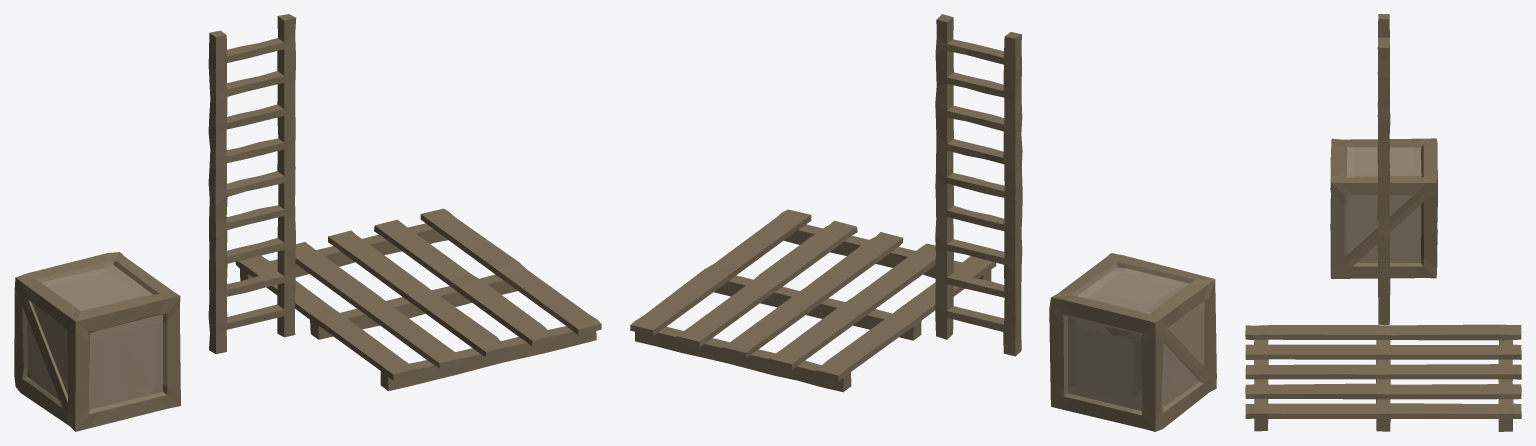
The model's file is EnvironmentObjects.fbx.
The picture shows the model from 3 angles, left to right: view 1: azimuth 30°, elevation 25°; view 2: azimuth 150°, elevation 25°; view 3: azimuth 270°, elevation 25°; orthographic projection. The views are drawn at different scales.
Visible parts, largest first — view 1: Pallet, Box, Ladder, Box_cell.007, Ladder_cell.004, Box_cell.004, Pallet_cell, Pallet_cell.005, Box_cell.006, Ladder_cell.001, Pallet_cell.004, Pallet_cell.002 (+10 smaller); view 2: Pallet, Box, Ladder, Ladder_cell.004, Pallet_cell, Box_cell.007, Box_cell.006, Box_cell.003, Box_cell.001, Pallet_cell.004, Ladder_cell.001, Pallet_cell.002 (+7 smaller); view 3: Pallet, Box, Pallet_cell.005, Pallet_cell, Pallet_cell.004, Ladder, Box_cell.004, Pallet_cell.009, Box_cell.001, Box_cell.007, Pallet_cell.003, Pallet_cell.002 (+10 smaller).
Part boxes in pixels (<box>): Pallet: <box>235,208,601,391</box>; Box: <box>14,257,180,431</box>; Ladder: <box>208,14,295,354</box>; Box_cell.007: <box>30,279,154,382</box>; Ladder_cell.004: <box>208,182,295,352</box>; Box_cell.004: <box>117,276,180,416</box>; Pallet_cell: <box>271,254,460,325</box>; Pallet_cell.005: <box>254,261,414,353</box>; Box_cell.006: <box>14,257,110,312</box>; Ladder_cell.001: <box>208,85,292,240</box>; Pallet_cell.004: <box>450,249,555,321</box>; Pallet_cell.002: <box>296,212,464,265</box>; Pallet: <box>630,210,996,392</box>; Box: <box>1049,253,1216,431</box>; Ladder: <box>935,14,1022,356</box>; Ladder_cell.004: <box>935,183,1021,350</box>; Pallet_cell: <box>742,267,848,386</box>; Box_cell.007: <box>1103,259,1213,371</box>; Box_cell.006: <box>1077,294,1179,339</box>; Box_cell.003: <box>1115,335,1178,414</box>; Box_cell.001: <box>1049,280,1112,417</box>; Pallet_cell.004: <box>703,231,824,305</box>; Ladder_cell.001: <box>935,85,1022,238</box>; Pallet_cell.002: <box>646,310,797,376</box>; Pallet: <box>1245,324,1521,431</box>; Box: <box>1330,138,1437,278</box>; Pallet_cell.005: <box>1294,324,1521,352</box>; Pallet_cell: <box>1312,343,1512,388</box>; Pallet_cell.004: <box>1290,383,1447,431</box>; Ladder: <box>1377,19,1390,323</box>; Box_cell.004: <box>1330,172,1377,278</box>; Pallet_cell.009: <box>1245,365,1305,430</box>; Box_cell.001: <box>1390,170,1437,278</box>; Box_cell.007: <box>1330,141,1397,184</box>; Pallet_cell.003: <box>1245,325,1296,364</box>; Pallet_cell.002: <box>1447,344,1521,417</box>.
Bounding box in the file's own units: 1479 × 988 × 847.
